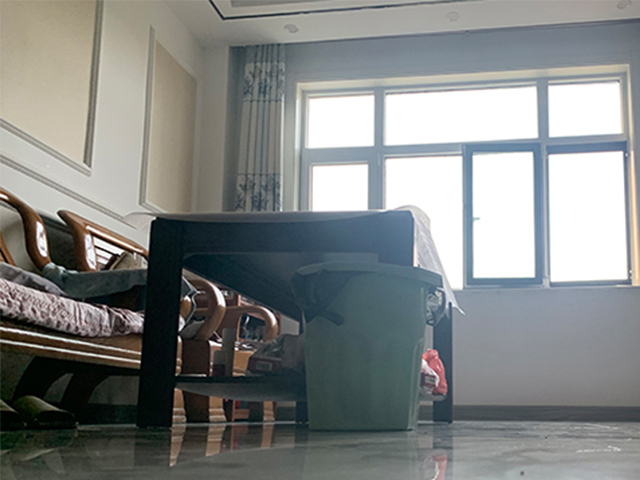slippers: (13, 392, 78, 431)
sofa: (1, 187, 281, 424)
table: (136, 209, 455, 430)
trashcan: (292, 261, 445, 433)
